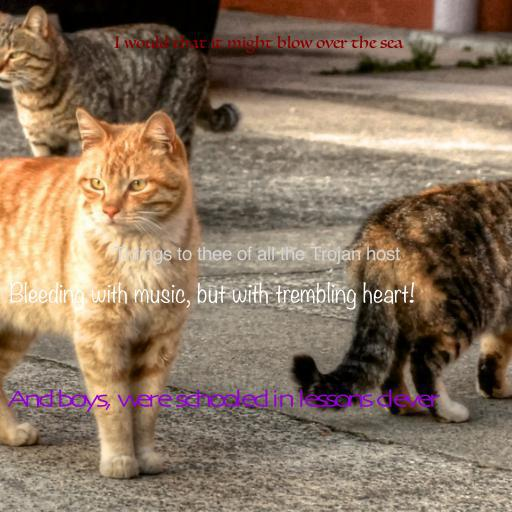Helvetica: (114, 246, 400, 265)
Luminari: (113, 35, 403, 54)
Noteworthy: (9, 281, 415, 310)
Skia: (8, 389, 438, 412)
